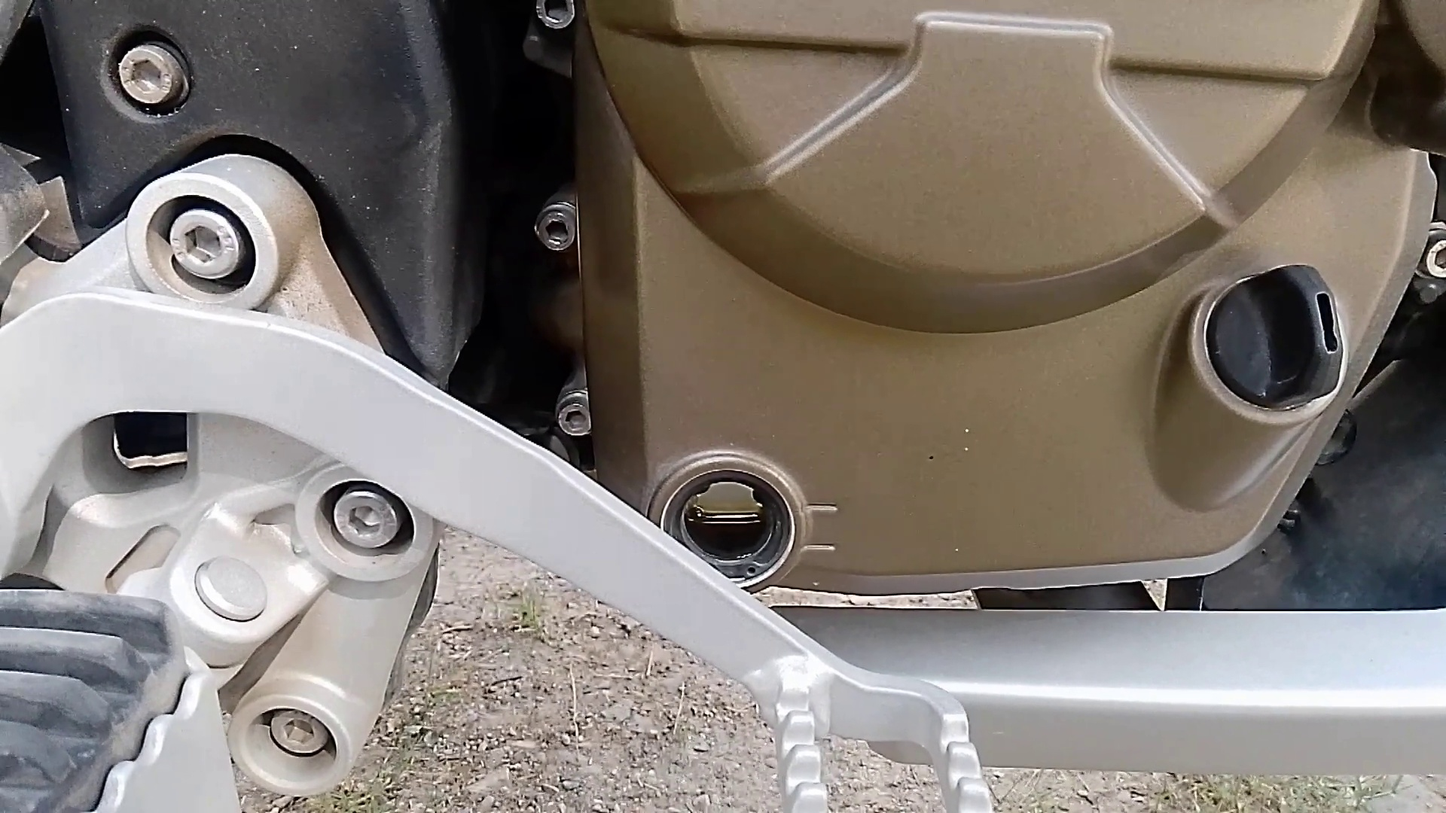engine: (522, 0, 1446, 662)
oil_cap: (1137, 243, 1368, 489)
oil_marker: (636, 431, 871, 627)
